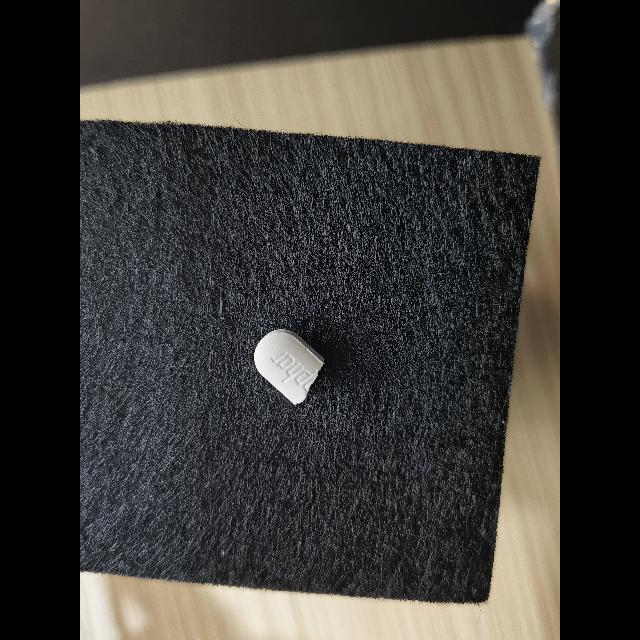Chipped Pill: (254, 329, 325, 405)
